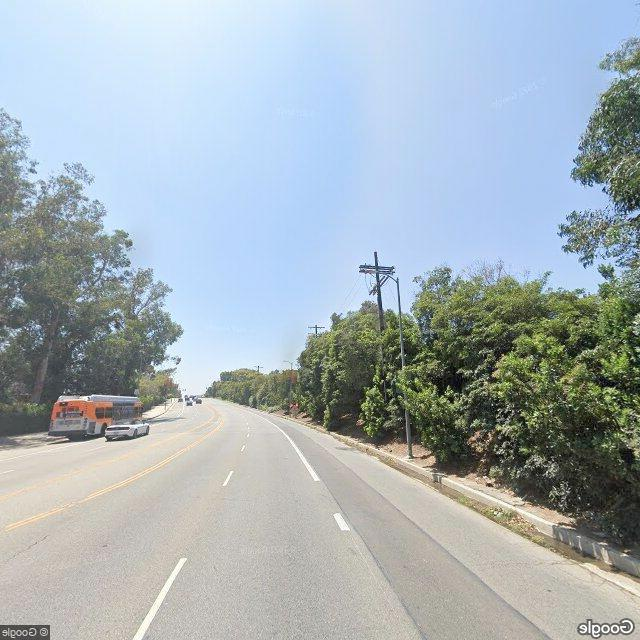pothole: (3, 529, 59, 563)
